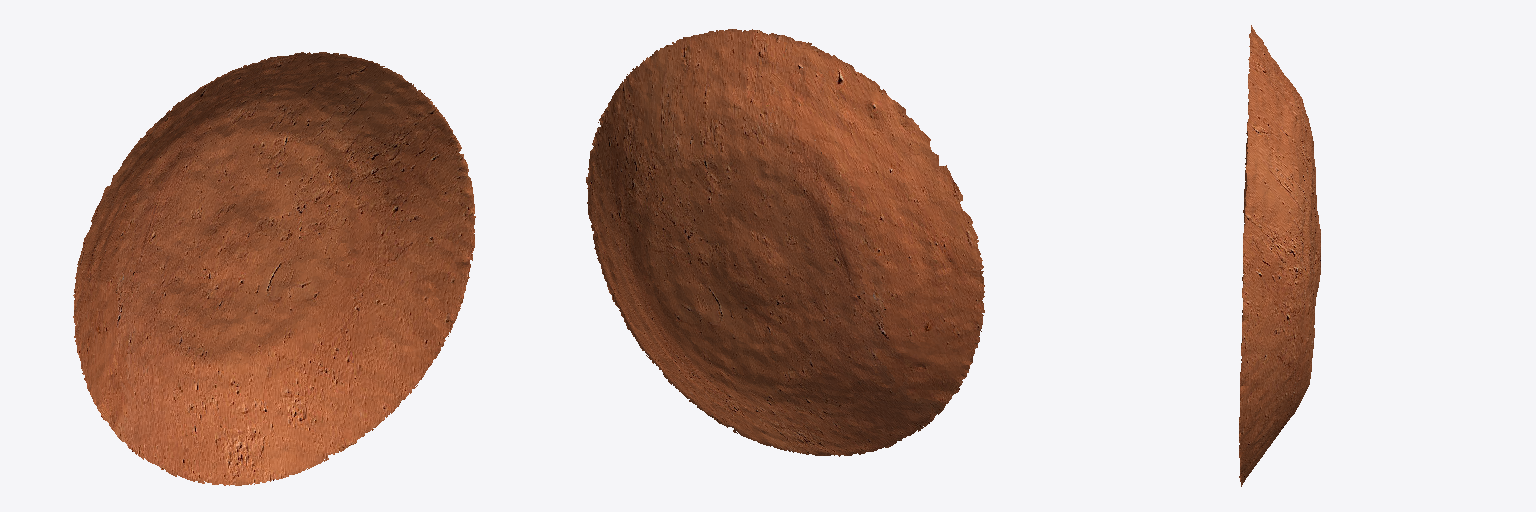
3 views of the same model, side by side, from view 1: azimuth 30°, elevation 25°; view 2: azimuth 150°, elevation 25°; view 3: azimuth 270°, elevation 25° (orthographic).
Visible parts, largest first — view 1: mesh; view 2: mesh; view 3: mesh.
Boxes of the visible parts, x1,y1,x2,y2 form: mesh: [73, 52, 475, 485]; mesh: [586, 29, 984, 456]; mesh: [1239, 25, 1320, 486].
Size of the model in its own units: 1.11 by 1.11 by 0.1971.
Materials: 1 (1 with a texture image).